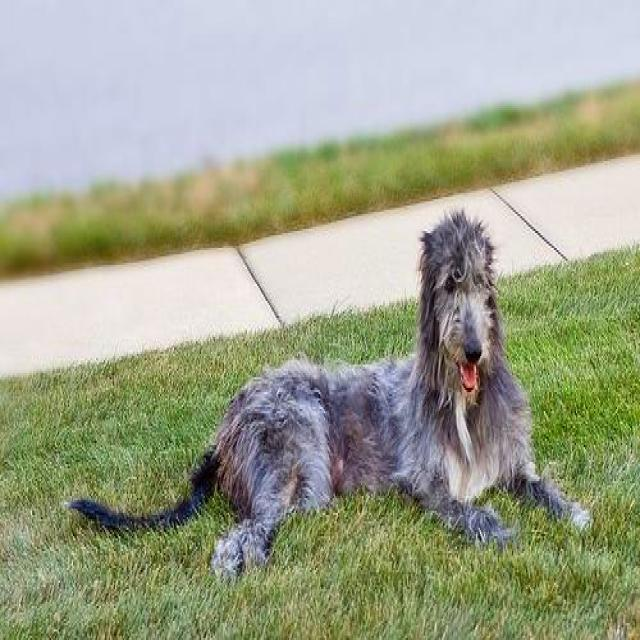irish_wolfhound: (66, 212, 594, 580)
